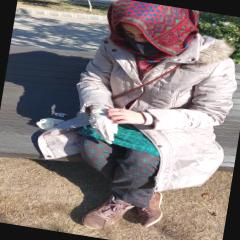gloved: (85, 107, 120, 146)
not-gloved: (107, 108, 146, 130)
